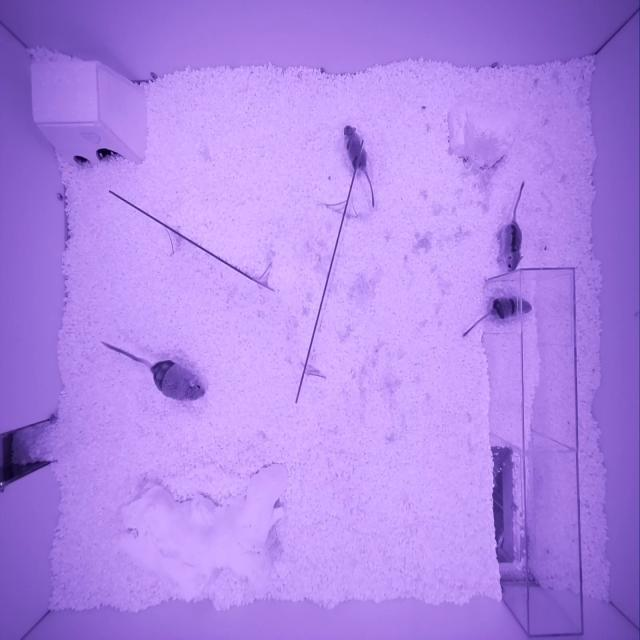adult_back: (153, 359, 205, 406)
pup_h_stripe: (490, 295, 532, 318)
pup_spotted: (344, 126, 367, 172)
pup_v_stripe: (496, 220, 524, 272)
